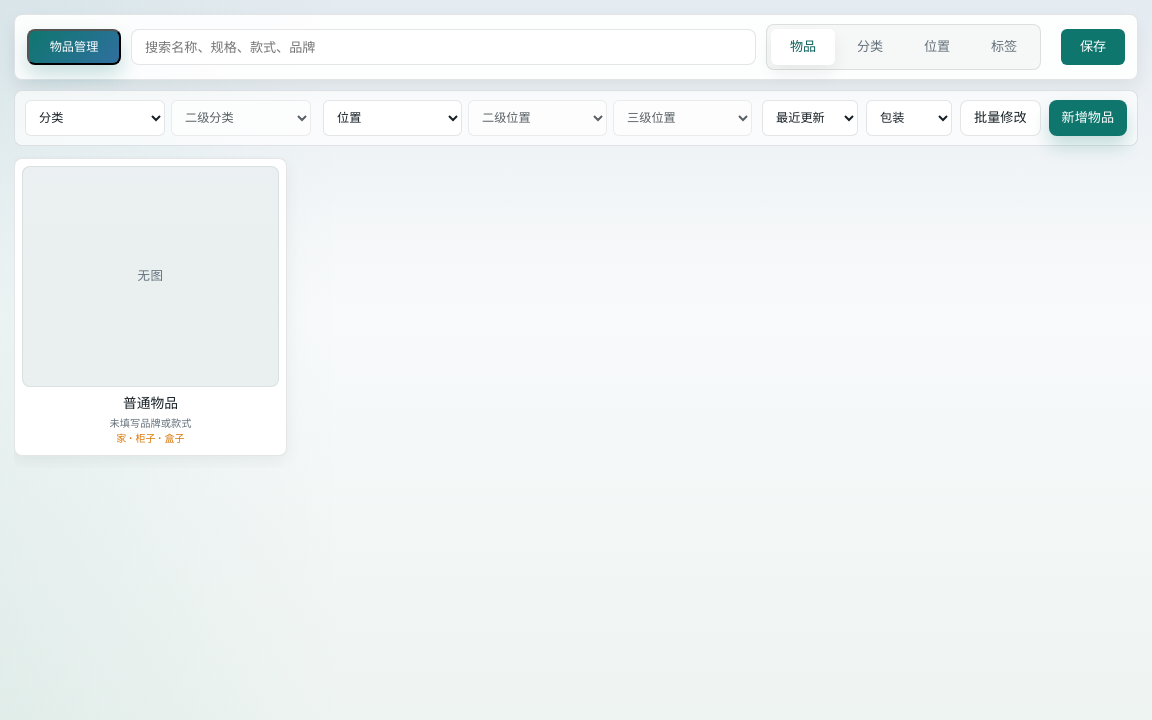
catalog confirmation persists to NAS › retains a rejected create draft and original project, then retries without duplicate nodes
Expected: the button "无图 普通物品 未填写品牌或款式 家 · 柜子 · 盒子" is shown, [14,158,287,456]
Click the button "分类".
click(870, 47)  # box [838,29,902,65]
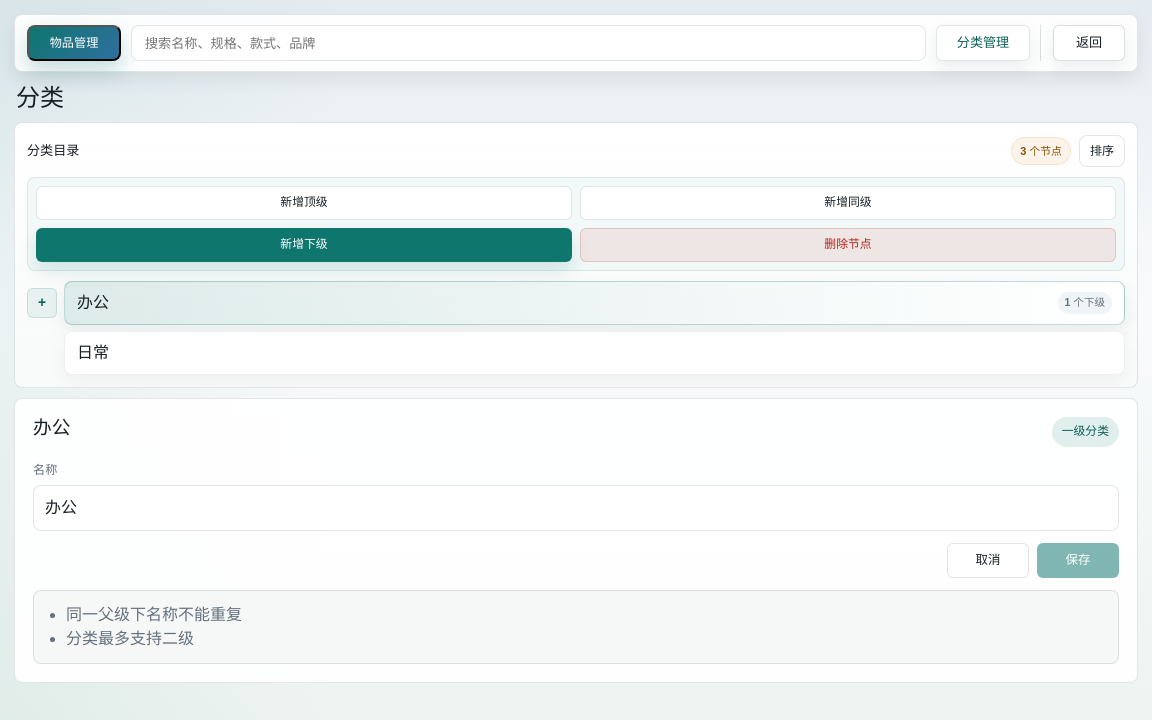
Click the button "新增顶级".
click(304, 203)  # box [36,186,572,220]
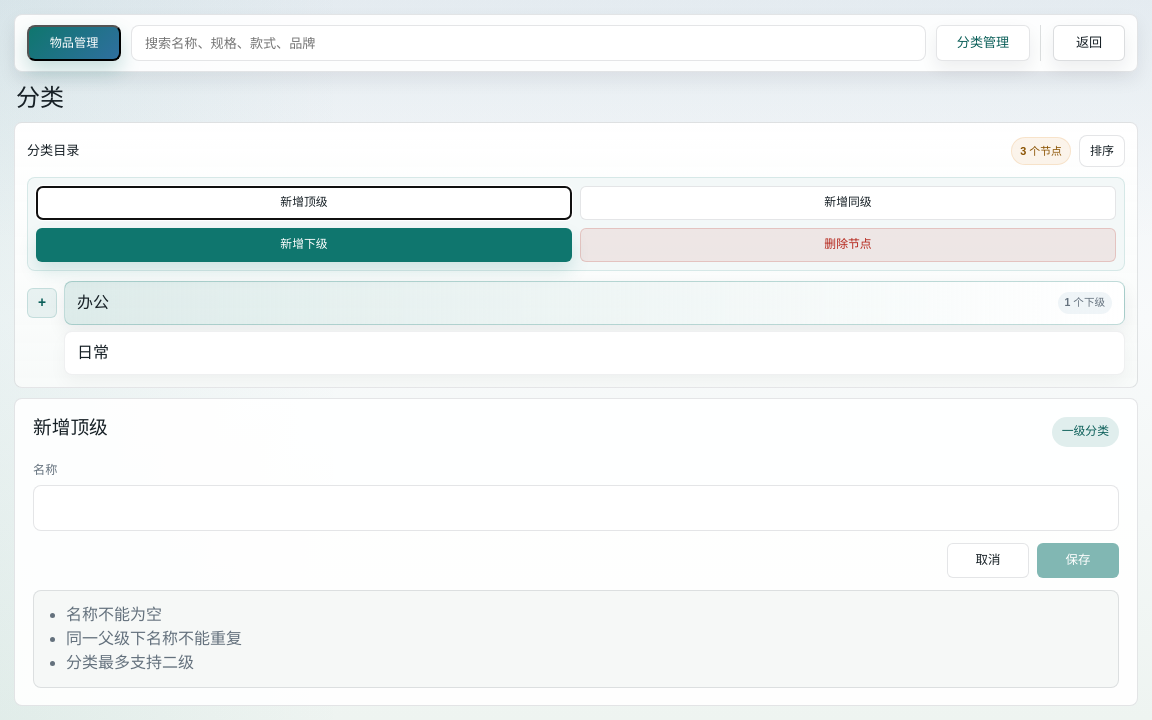
Type "重试分类" into the field labelled "名称".
click(576, 508); type("重试分类")  # box [33,485,1119,531]
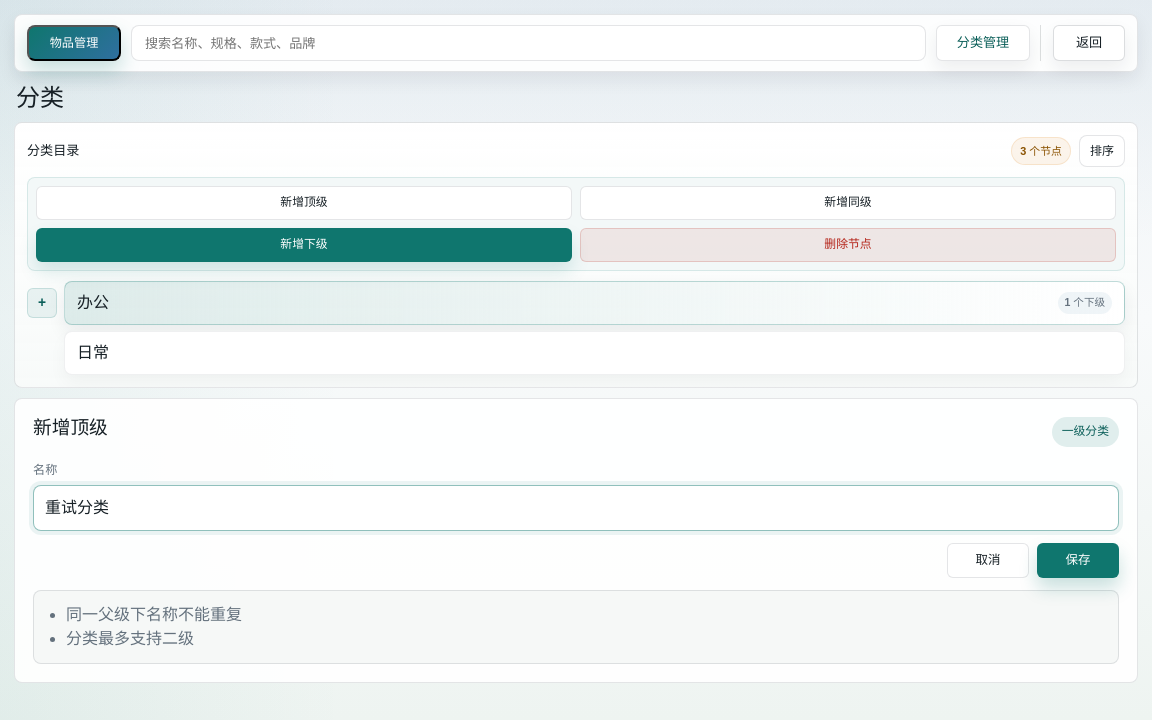
Click the button "保存".
click(1078, 560)  # box [1037,543,1119,578]
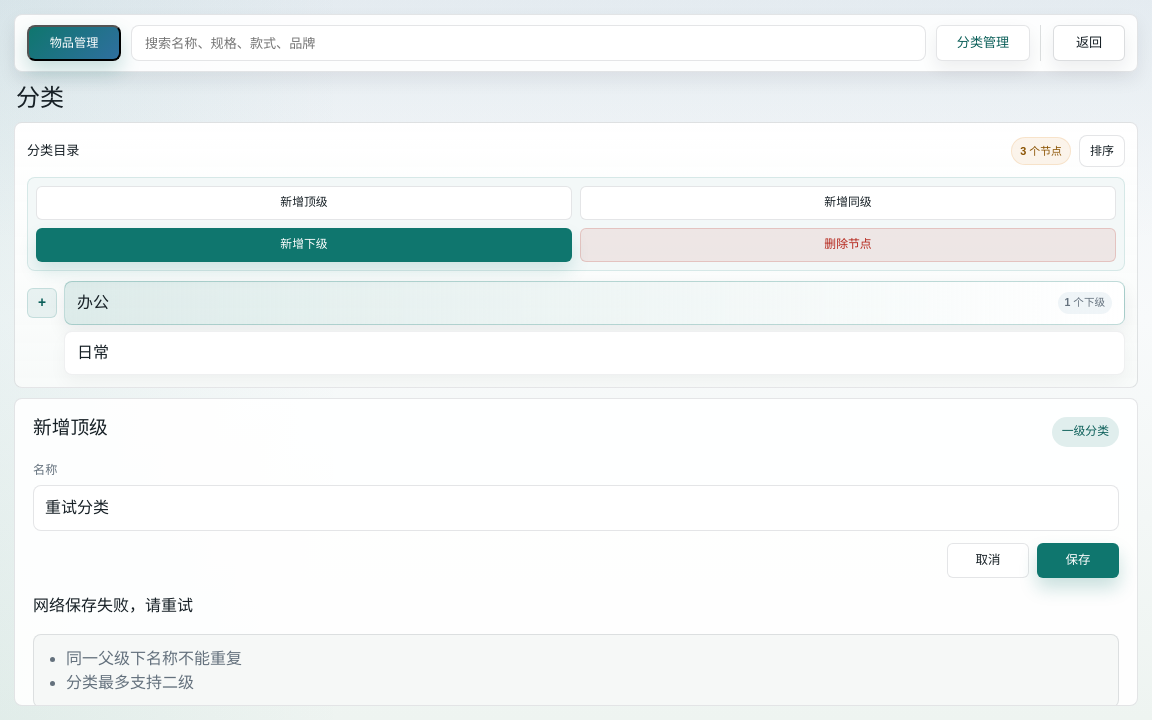
Expected: the message "网络保存失败，请重试" is shown, [33,596,193,614]
Click the button "保存".
click(1078, 560)  # box [1037,543,1119,578]
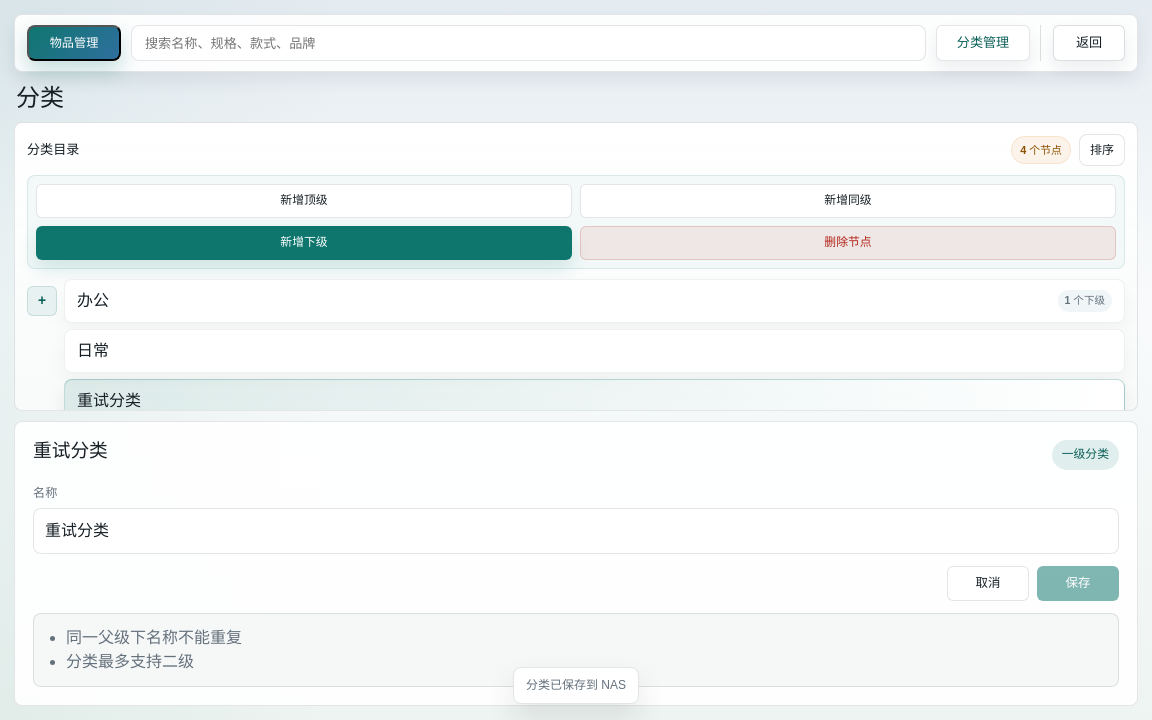
Expected: the list item "重试分类" is shown, [64,379,1125,411]
